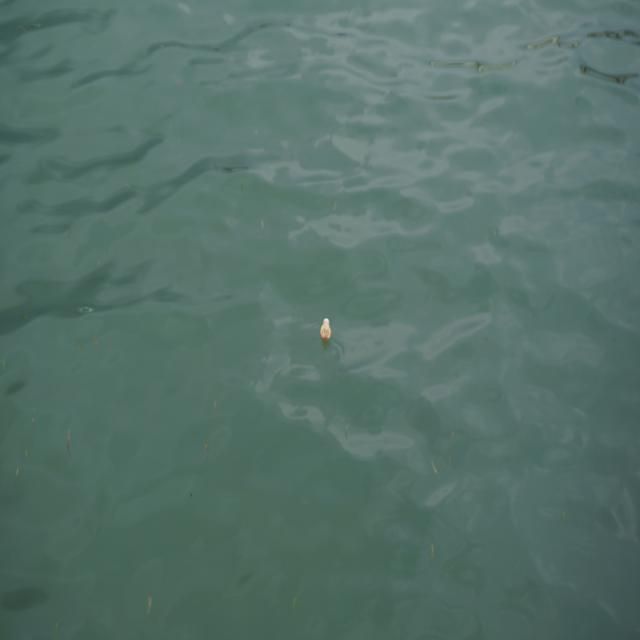Bungkus Minuman: (319, 313, 336, 346)
